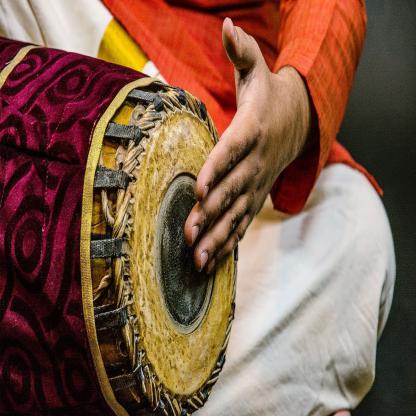Mridangam: (1, 31, 244, 416)
